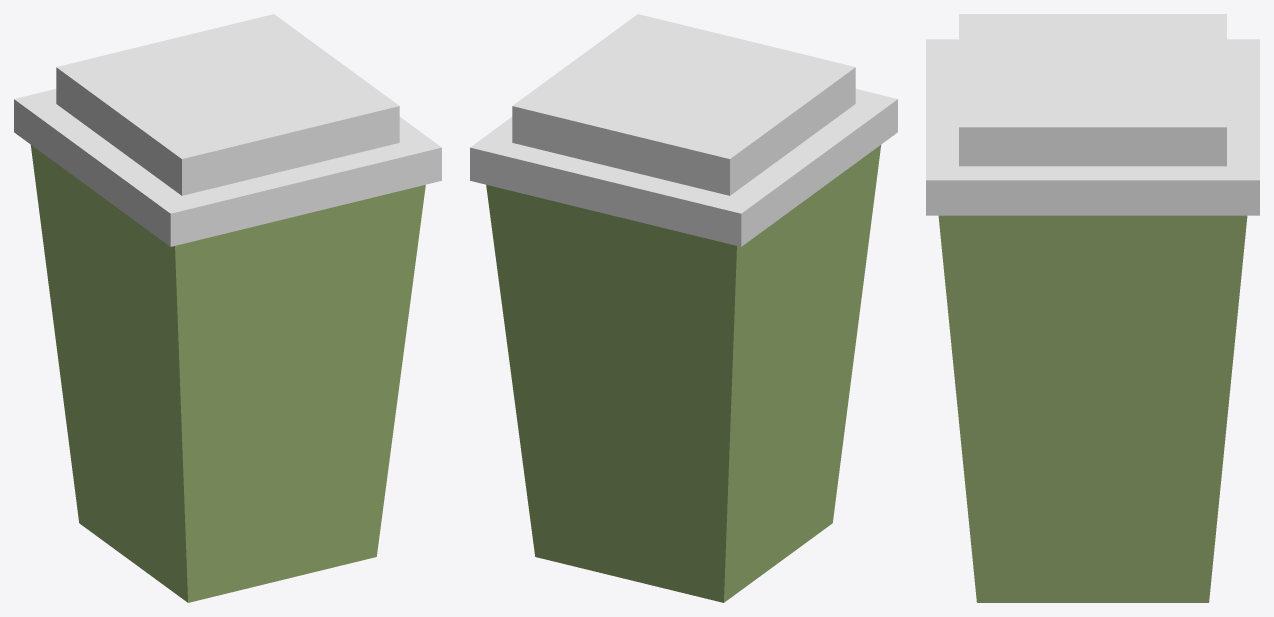
The model's file is FastCoffeeCupGreen.fbx.
3 views of the same model, side by side, from view 1: azimuth 30°, elevation 25°; view 2: azimuth 150°, elevation 25°; view 3: azimuth 270°, elevation 25° (orthographic). The views are drawn at different scales.
Visible parts, largest first — view 1: FastCoffeeCupGreen; view 2: FastCoffeeCupGreen; view 3: FastCoffeeCupGreen.
Part boxes in pixels (x1,y1,x2,y2): FastCoffeeCupGreen: (14, 14, 441, 602); FastCoffeeCupGreen: (470, 14, 897, 602); FastCoffeeCupGreen: (926, 14, 1259, 602).
Bounding box in the file's own units: 0.117 × 0.187 × 0.117.
